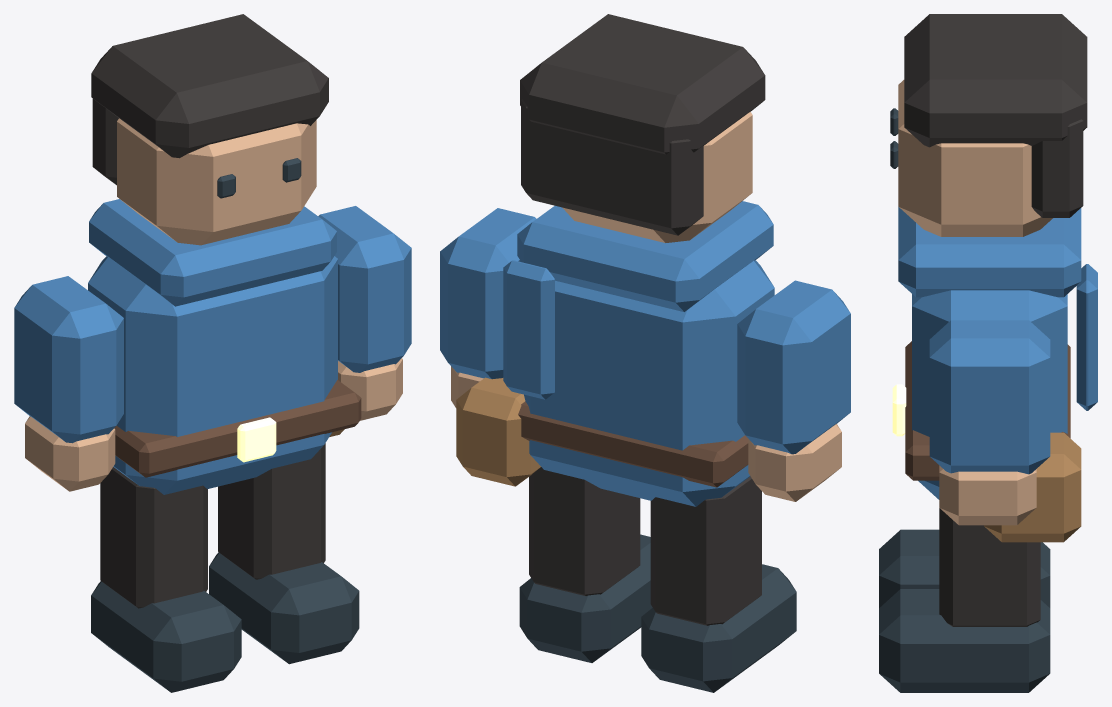
File: character-player.glb
The picture shows the model from 3 angles, left to right: view 1: azimuth 30°, elevation 25°; view 2: azimuth 150°, elevation 25°; view 3: azimuth 270°, elevation 25°; orthographic projection. The views are drawn at different scales.
Parts seen in each view (by area): view 1: tunic, hair, head, sleeve, scarf, leg, boot, sleeve.001, boot.001, leg.001, belt, hand (+3 smaller); view 2: tunic, hair, sleeve, scarf, hair-back, leg, leg.001, sleeve.001, boot, boot.001, belt, scarf-tail (+3 smaller); view 3: hair, sleeve.001, boot.001, head, scarf, leg.001, tunic, satchel, hand.001, boot, hair-back, scarf-tail (+2 smaller).
Boxes of the visible parts, x1=… form: tunic: x1=88, y1=256, x2=337, y2=494; hair: x1=91, y1=14, x2=328, y2=158; head: x1=117, y1=118, x2=316, y2=245; sleeve: x1=14, y1=276, x2=123, y2=443; scarf: x1=89, y1=199, x2=336, y2=306; leg: x1=100, y1=467, x2=207, y2=608; boot: x1=91, y1=581, x2=241, y2=692; sleeve.001: x1=318, y1=206, x2=411, y2=372; boot.001: x1=209, y1=552, x2=359, y2=664; leg.001: x1=218, y1=443, x2=325, y2=579; belt: x1=114, y1=380, x2=361, y2=477; hand: x1=25, y1=416, x2=115, y2=491; tunic: x1=518, y1=260, x2=774, y2=506; hair: x1=520, y1=14, x2=765, y2=154; sleeve: x1=737, y1=280, x2=850, y2=454; scarf: x1=517, y1=201, x2=773, y2=311; hair-back: x1=521, y1=99, x2=703, y2=235; leg: x1=650, y1=476, x2=761, y2=625; leg.001: x1=529, y1=467, x2=640, y2=595; sleeve.001: x1=440, y1=208, x2=536, y2=379; boot: x1=641, y1=564, x2=796, y2=692; boot.001: x1=519, y1=534, x2=652, y2=662; belt: x1=518, y1=401, x2=748, y2=487; scarf-tail: x1=503, y1=260, x2=554, y2=399; hair: x1=904, y1=14, x2=1087, y2=147; sleeve.001: x1=929, y1=320, x2=1050, y2=474; boot.001: x1=879, y1=589, x2=1050, y2=692; head: x1=898, y1=80, x2=1052, y2=236; scarf: x1=898, y1=207, x2=1081, y2=297; leg.001: x1=939, y1=508, x2=1040, y2=626; tunic: x1=912, y1=290, x2=1067, y2=499; satchel: x1=984, y1=432, x2=1081, y2=542; hand.001: x1=939, y1=465, x2=1036, y2=525; boot: x1=879, y1=529, x2=1050, y2=607; hair-back: x1=1031, y1=119, x2=1083, y2=217; scarf-tail: x1=1076, y1=264, x2=1097, y2=410.
Size of the model in its own units: 1.1 by 1.71 by 0.5625.
